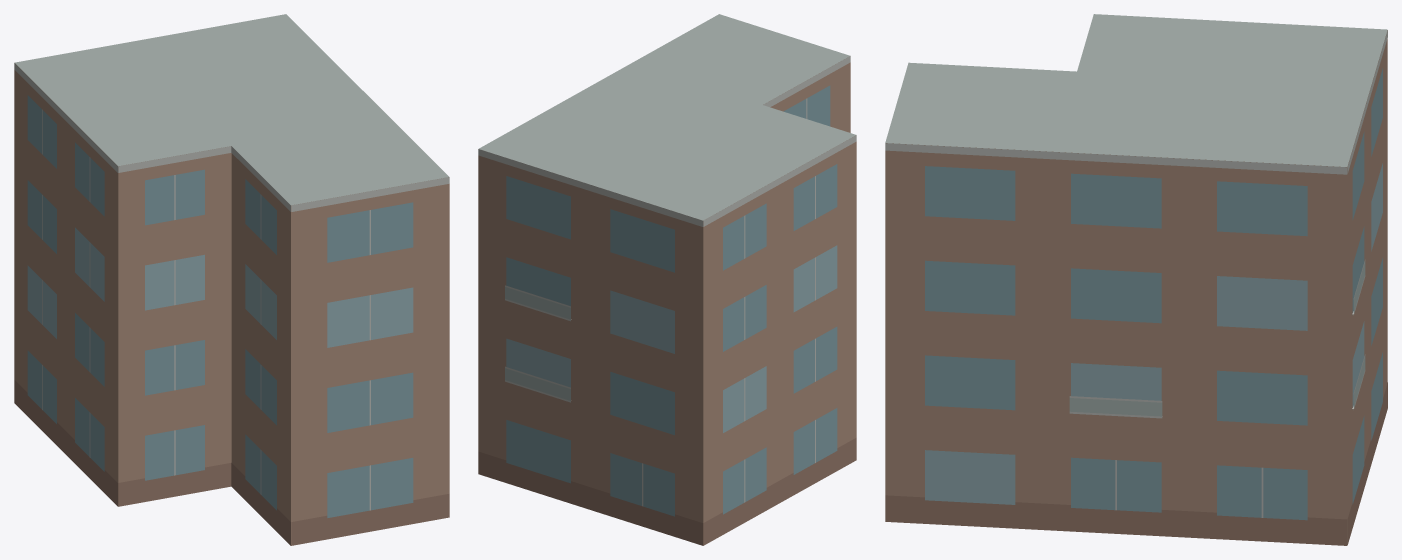
Rendered from residential-e41b800c-9346-4af2-8d22-b8b60516c67a.glb.
3 views of the same model, side by side, from view 1: azimuth 30°, elevation 25°; view 2: azimuth 150°, elevation 25°; view 3: azimuth 270°, elevation 25° (orthographic). The views are drawn at different scales.
Parts seen in each view (by area): view 1: residential-e41b800c-9346-4af2-8d22-b8b60516c67a.tmp; view 2: residential-e41b800c-9346-4af2-8d22-b8b60516c67a.tmp; view 3: residential-e41b800c-9346-4af2-8d22-b8b60516c67a.tmp.
Part boxes in pixels (x1,y1,x2,y2): residential-e41b800c-9346-4af2-8d22-b8b60516c67a.tmp: (14,14,449,545); residential-e41b800c-9346-4af2-8d22-b8b60516c67a.tmp: (478,14,856,545); residential-e41b800c-9346-4af2-8d22-b8b60516c67a.tmp: (885,14,1387,545).
Size of the model in its own units: 10.59 by 12.2 by 14.68.
